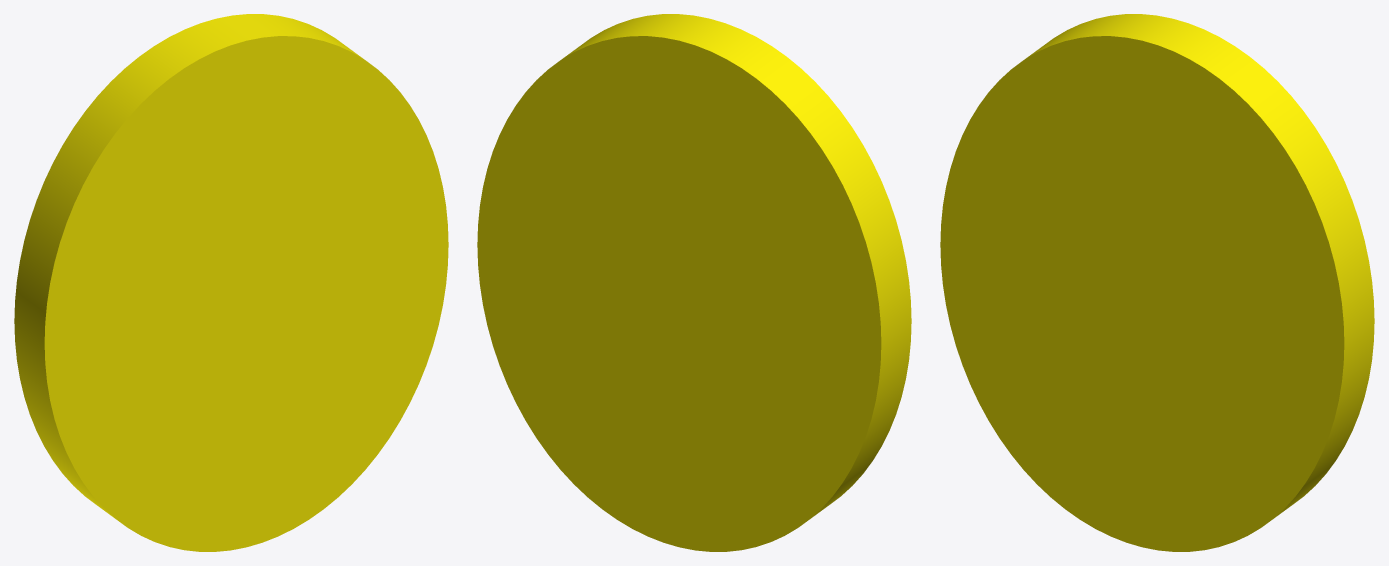
The model's file is Coin.fbx.
3 renders of one model, left to right at view 1: azimuth 30°, elevation 25°; view 2: azimuth 150°, elevation 25°; view 3: azimuth 330°, elevation 25°, orthographic.
Parts seen in each view (by area): view 1: root; view 2: root; view 3: root.
Boxes of the visible parts, left/top/right/bottom form: root: left=14, top=14, right=448, bottom=551; root: left=477, top=14, right=911, bottom=551; root: left=940, top=14, right=1374, bottom=551.
Size of the model in its own units: 0.359 by 0.4303 by 0.0465.
